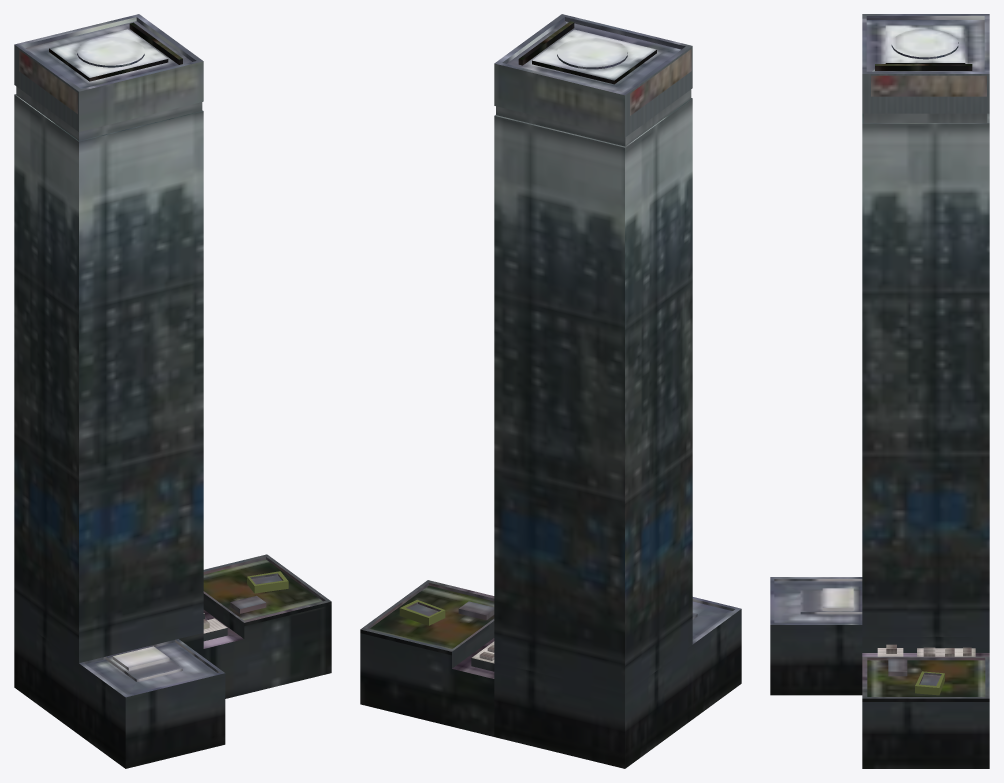
Rendered from times_square_excellence_b8a73c35.glb.
3 renders of one model, left to right at view 1: azimuth 30°, elevation 25°; view 2: azimuth 150°, elevation 25°; view 3: azimuth 270°, elevation 25°, orthographic. The views are drawn at different scales.
Parts seen in each view (by area): view 1: times_square_excellence_b8a73c35; view 2: times_square_excellence_b8a73c35; view 3: times_square_excellence_b8a73c35.
Part boxes in pixels (bbox=[...]): times_square_excellence_b8a73c35: bbox=[14, 14, 331, 768]; times_square_excellence_b8a73c35: bbox=[360, 14, 741, 768]; times_square_excellence_b8a73c35: bbox=[770, 14, 989, 768].
Size of the model in its own units: 90.1 by 219 by 68.73.
Materials: 1 (1 with a texture image).
